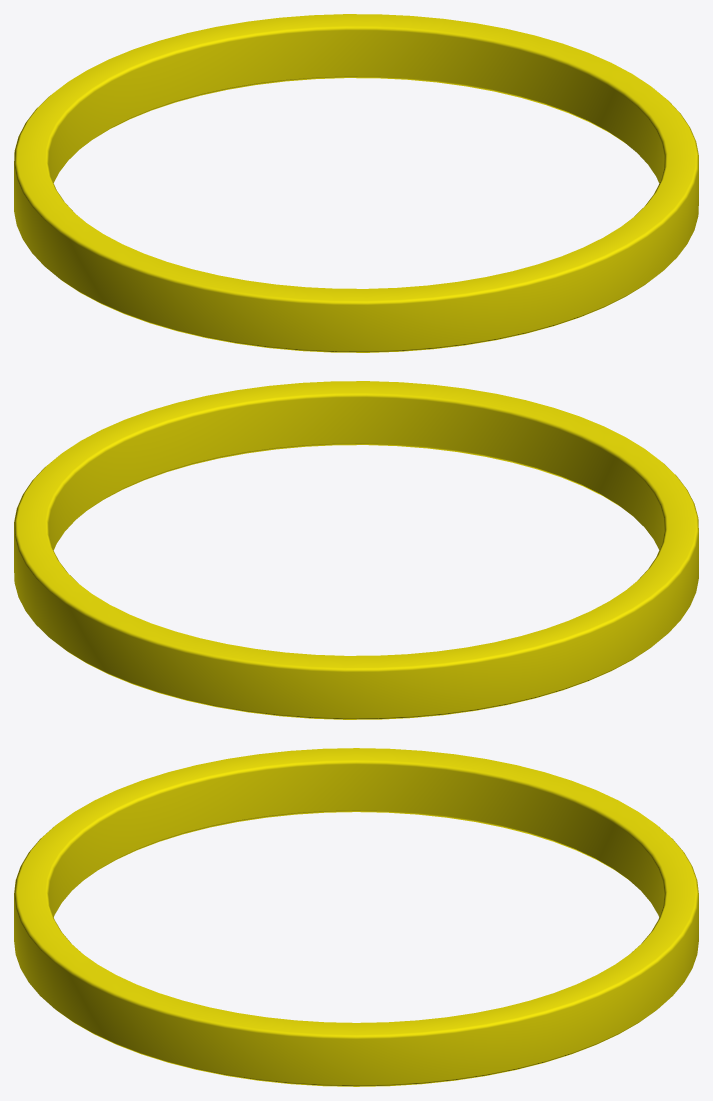
The picture shows the model from 3 angles, top to bottom: view 1: azimuth 30°, elevation 25°; view 2: azimuth 150°, elevation 25°; view 3: azimuth 270°, elevation 25°; orthographic projection.
Parts seen in each view (by area): view 1: seal_body; view 2: seal_body; view 3: seal_body.
Part boxes in pixels (box(x1,y1,x2,y2)): seal_body: box(14, 14, 698, 352); seal_body: box(14, 381, 698, 719); seal_body: box(14, 748, 698, 1086).
Bounding box in the file's own units: 0.1272 × 0.0107 × 0.1272.
